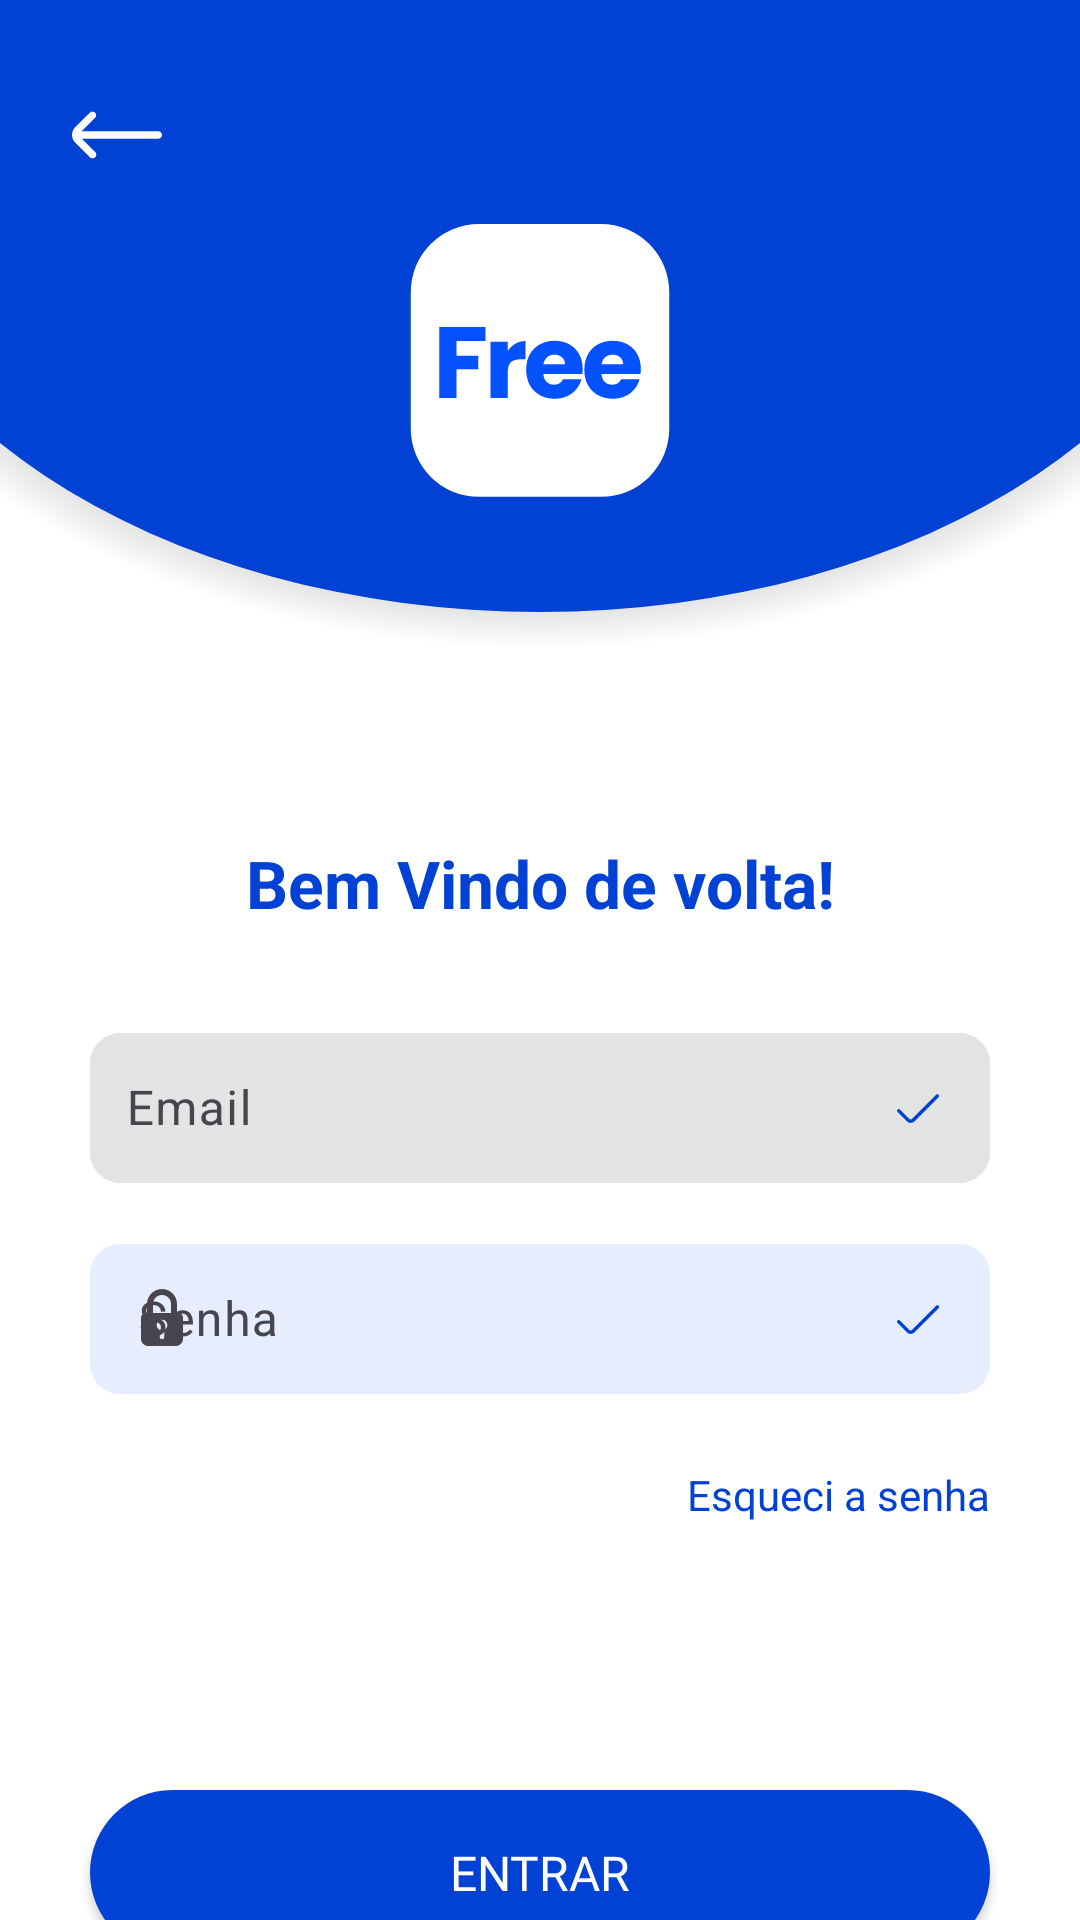

Icons on this 1080w x 1920h Android screen, each with its box as (x1,y1,x2,y2):
Voltar: (72,111,162,159)
